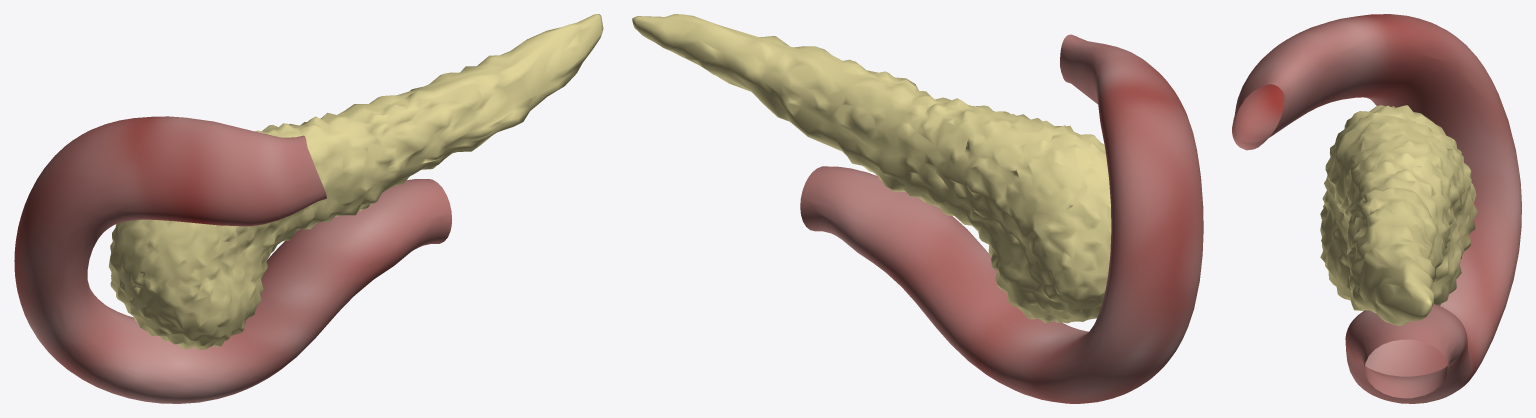
The model's file is duodenum.glb.
3 views of the same model, side by side, from view 1: azimuth 30°, elevation 25°; view 2: azimuth 150°, elevation 25°; view 3: azimuth 270°, elevation 25° (orthographic). The views are drawn at different scales.
Parts seen in each view (by area): view 1: duodenum, pancreas; view 2: duodenum, pancreas; view 3: duodenum, pancreas.
Part boxes in pixels (box(x1,y1,x2,y2)): duodenum: box(14, 116, 452, 403); pancreas: box(108, 14, 603, 350); duodenum: box(800, 34, 1203, 403); pancreas: box(632, 14, 1111, 323); duodenum: box(1232, 14, 1521, 403); pancreas: box(1320, 105, 1477, 326).
Bounding box in the file's own units: 0.8054 × 0.4182 × 0.3221.
2 materials, 2 textured.
